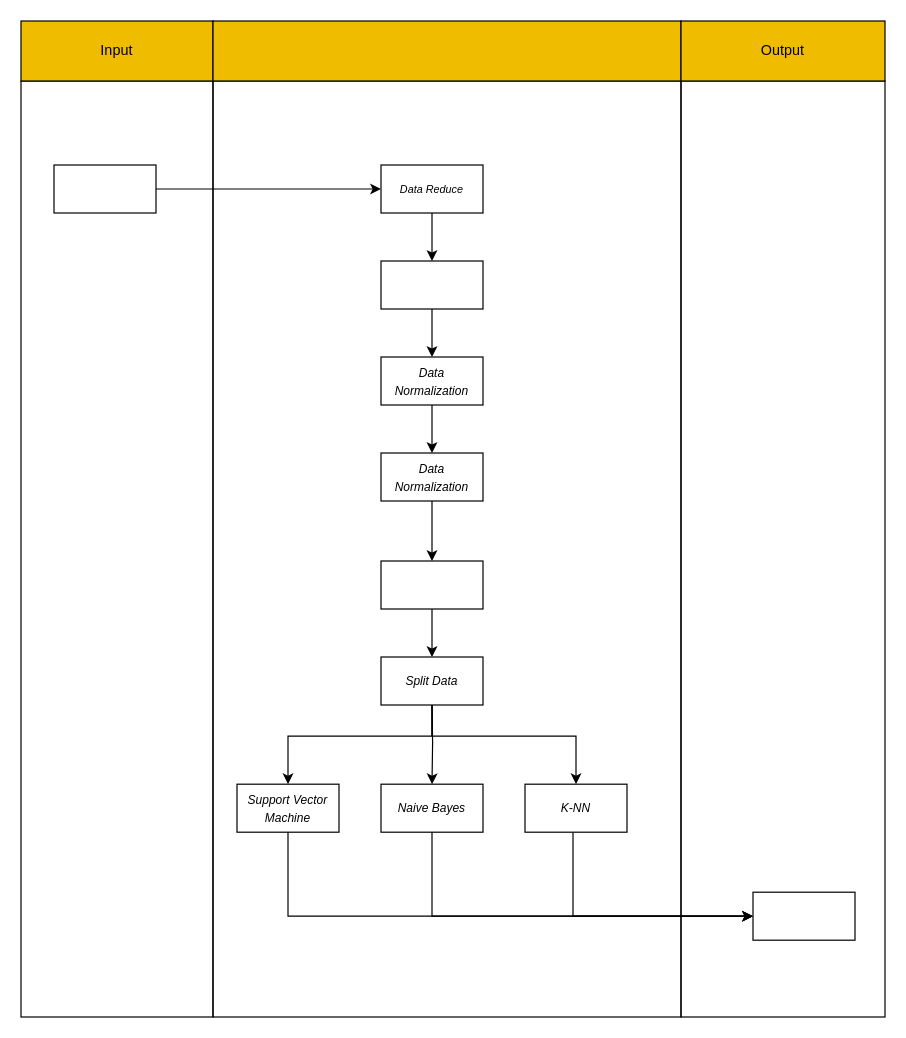
The diagram is 906 pixels wide and 1038 high, and some of its shapes have lost their labels. Here are the shapes that lost their labels. From the top down, the centre of each, then its label:
(446,50): Process
(104,188): Dataset
(431,284): Data Transformation
(431,584): Balancing Data
(803,915): Class Anemia
